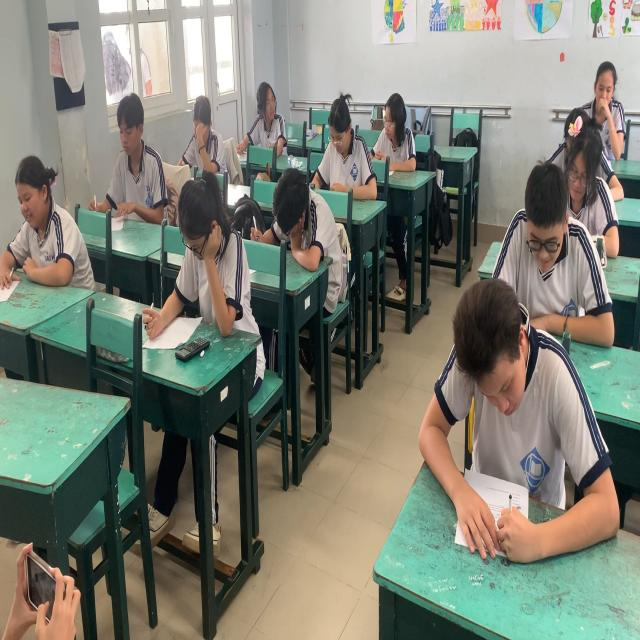cheating: (247, 74, 284, 157)
not_cheating: (418, 286, 603, 516), (160, 168, 268, 312), (2, 157, 88, 302), (490, 189, 580, 323), (98, 99, 166, 240), (315, 71, 377, 192), (270, 154, 338, 257), (548, 112, 601, 219), (364, 81, 422, 171), (179, 85, 224, 178), (590, 49, 622, 157)
